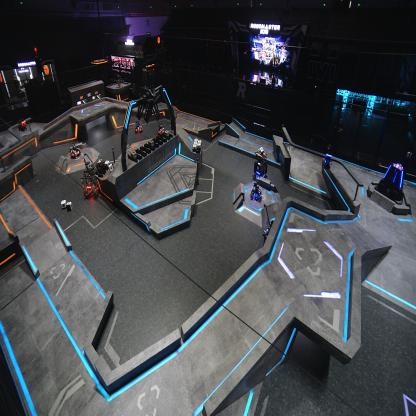car: (80, 166, 99, 200), (251, 149, 268, 180), (250, 178, 262, 202), (70, 141, 82, 158), (134, 120, 143, 135), (156, 121, 165, 136)
